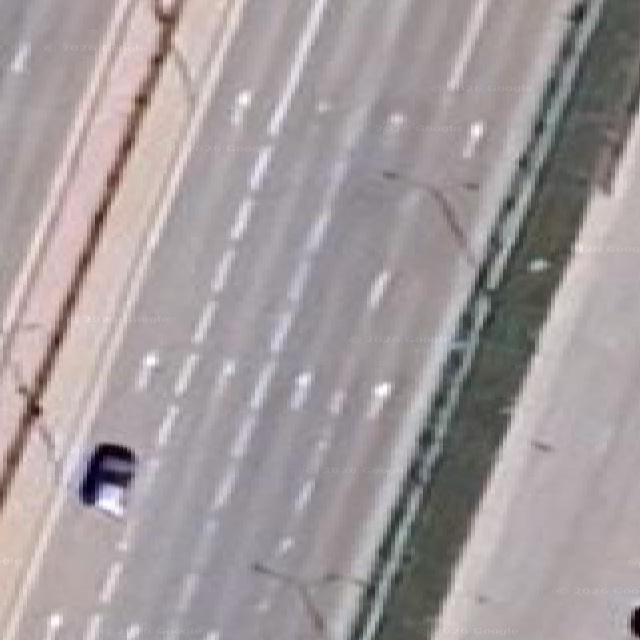car: (80, 443, 134, 515)
